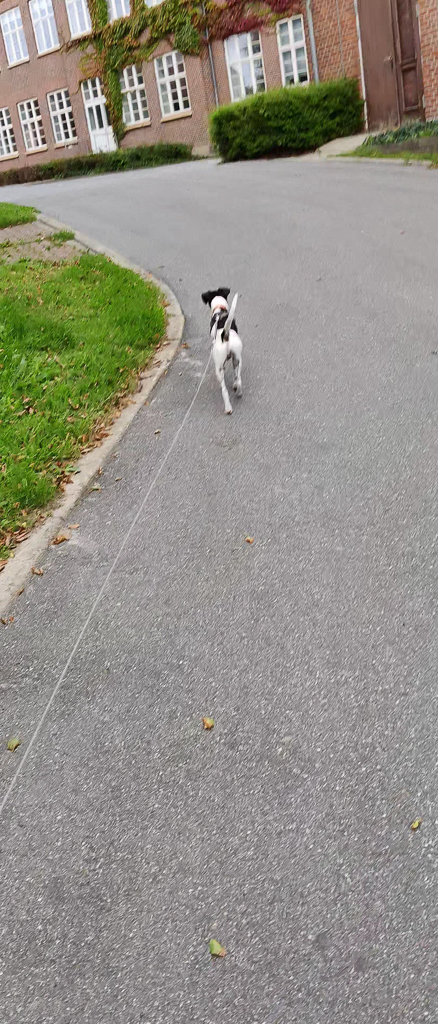Dog: (194, 280, 256, 429)
